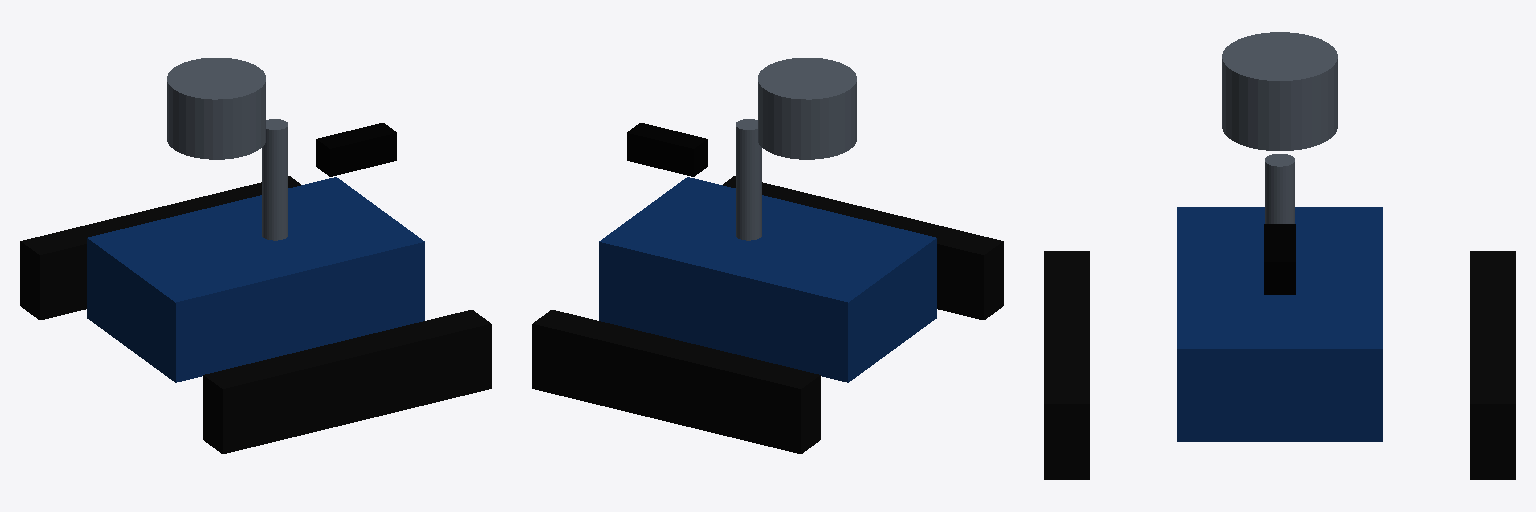
The robot description file, URDF, robot "omnifleet_t2":
<?xml version="1.0"?>
<robot name="omnifleet_t2">
  <material name="body_blue"><color rgba="0.08 0.22 0.42 1.0"/></material>
  <material name="track_dark"><color rgba="0.06 0.06 0.06 1.0"/></material>
  <material name="sensor_gray"><color rgba="0.35 0.38 0.42 1.0"/></material>
  <material name="camera_black"><color rgba="0.03 0.03 0.03 1.0"/></material>

  <link name="base_footprint"/>
  <link name="base_link">
    <visual>
      <origin xyz="0 0 0" rpy="0 0 0"/>
      <geometry><box size="0.26 0.16 0.08"/></geometry>
      <material name="body_blue"/>
    </visual>
    <collision>
      <origin xyz="0 0 0.09" rpy="0 0 0"/>
      <geometry><box size="0.50 0.37 0.33"/></geometry>
    </collision>
    <inertial>
      <origin xyz="0 0 0.09" rpy="0 0 0"/>
      <mass value="12.0"/>
      <inertia ixx="0.160" ixy="0" ixz="0" iyy="0.359" iyz="0" izz="0.387"/>
    </inertial>
  </link>
  <joint name="base_footprint_joint" type="fixed">
    <parent link="base_link"/>
    <child link="base_footprint"/>
    <origin xyz="0 0 -0.075" rpy="0 0 0"/>
  </joint>

  <link name="left_track_link">
    <visual><geometry><box size="0.28 0.035 0.065"/></geometry><material name="track_dark"/></visual>
    <collision><geometry><box size="0.50 0.04 0.08"/></geometry></collision>
  </link>
  <joint name="left_track_joint" type="fixed">
    <parent link="base_link"/>
    <child link="left_track_link"/>
    <origin xyz="0 0.165 -0.035" rpy="0 0 0"/>
  </joint>

  <link name="right_track_link">
    <visual><geometry><box size="0.28 0.035 0.065"/></geometry><material name="track_dark"/></visual>
    <collision><geometry><box size="0.50 0.04 0.08"/></geometry></collision>
  </link>
  <joint name="right_track_joint" type="fixed">
    <parent link="base_link"/>
    <child link="right_track_link"/>
    <origin xyz="0 -0.165 -0.035" rpy="0 0 0"/>
  </joint>

  <link name="sensor_mast_link">
    <visual>
      <origin xyz="0 0 0.055" rpy="0 0 0"/>
      <geometry><cylinder radius="0.012" length="0.11"/></geometry>
      <material name="sensor_gray"/>
    </visual>
  </link>
  <joint name="sensor_mast_joint" type="fixed">
    <parent link="base_link"/>
    <child link="sensor_mast_link"/>
    <origin xyz="0.02 0 0.04" rpy="0 0 0"/>
  </joint>

  <link name="rslidar">
    <visual>
      <origin xyz="0 0 0.03" rpy="0 0 0"/>
      <geometry><cylinder radius="0.045" length="0.06"/></geometry>
      <material name="sensor_gray"/>
    </visual>
  </link>
  <joint name="rslidar_joint" type="fixed">
    <parent link="base_link"/>
    <child link="rslidar"/>
    <origin xyz="-0.041 0 0.15" rpy="0 0 0"/>
  </joint>

  <link name="imu_link"/>
  <joint name="imu_joint" type="fixed">
    <parent link="base_link"/>
    <child link="imu_link"/>
    <origin xyz="0 0 0" rpy="0 0 0"/>
  </joint>

  <link name="camera_link">
    <visual>
      <geometry><box size="0.07 0.025 0.028"/></geometry>
      <material name="camera_black"/>
    </visual>
  </link>
  <joint name="camera_joint" type="fixed">
    <parent link="base_link"/>
    <child link="camera_link"/>
    <origin xyz="0.105 0 0.105" rpy="0 0 0"/>
  </joint>
</robot>

--- Render facts (derived) ---
3 views of the same robot in one strip: view 1: azimuth 30°, elevation 25°; view 2: azimuth 150°, elevation 25°; view 3: azimuth 270°, elevation 25° (orthographic).
Model omnifleet_t2 with 8 links and 7 joints (7 fixed), rooted at base_link, posed all joints at 0.
Links seen in each view (by area): view 1: base_link, right_track_link, rslidar, left_track_link, camera_link, sensor_mast_link; view 2: base_link, left_track_link, rslidar, right_track_link, camera_link, sensor_mast_link; view 3: base_link, rslidar, left_track_link, right_track_link, camera_link, sensor_mast_link.
Boxes of the visible links, x1,y1,x2,y2 form: base_link: [87, 177, 424, 382]; right_track_link: [203, 310, 491, 453]; rslidar: [167, 58, 265, 159]; left_track_link: [20, 176, 300, 319]; camera_link: [316, 123, 396, 176]; sensor_mast_link: [262, 119, 287, 240]; base_link: [599, 177, 936, 382]; left_track_link: [532, 310, 820, 453]; rslidar: [758, 58, 856, 159]; right_track_link: [723, 176, 1003, 319]; camera_link: [627, 123, 707, 176]; sensor_mast_link: [736, 119, 761, 240]; base_link: [1177, 207, 1382, 441]; rslidar: [1222, 32, 1337, 150]; left_track_link: [1470, 251, 1515, 479]; right_track_link: [1044, 251, 1089, 479]; camera_link: [1264, 224, 1295, 294]; sensor_mast_link: [1265, 154, 1294, 223].
Bounding box of the posed robot: 0.28 × 0.365 × 0.2775 m (x, y, z).
Geometry: primitives only (box / cylinder / sphere), no mesh files.
